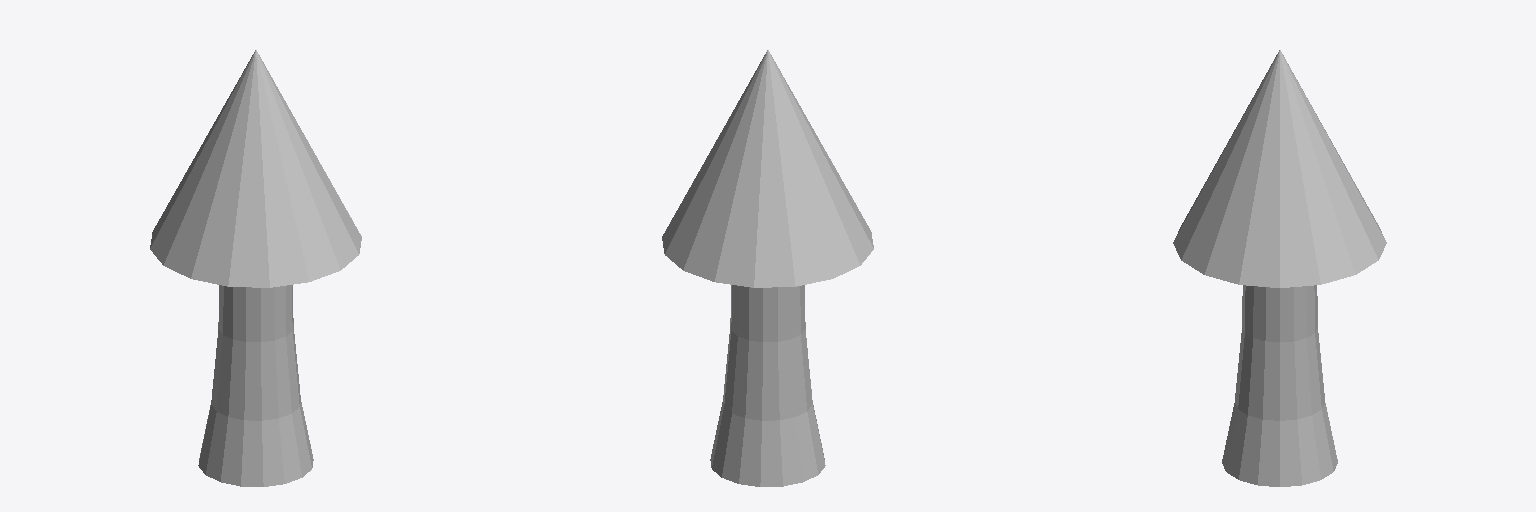
File: force_arrow.obj
3 renders of one model, left to right at view 1: azimuth 30°, elevation 25°; view 2: azimuth 150°, elevation 25°; view 3: azimuth 270°, elevation 25°, orthographic.
Parts seen in each view (by area): view 1: Cylinder; view 2: Cylinder; view 3: Cylinder.
Part boxes in pixels (x1,y1,x2,y2): Cylinder: (150,50,361,486); Cylinder: (662,50,873,486); Cylinder: (1173,50,1386,486).
Size of the model in its own units: 5.09 by 10.85 by 5.09.